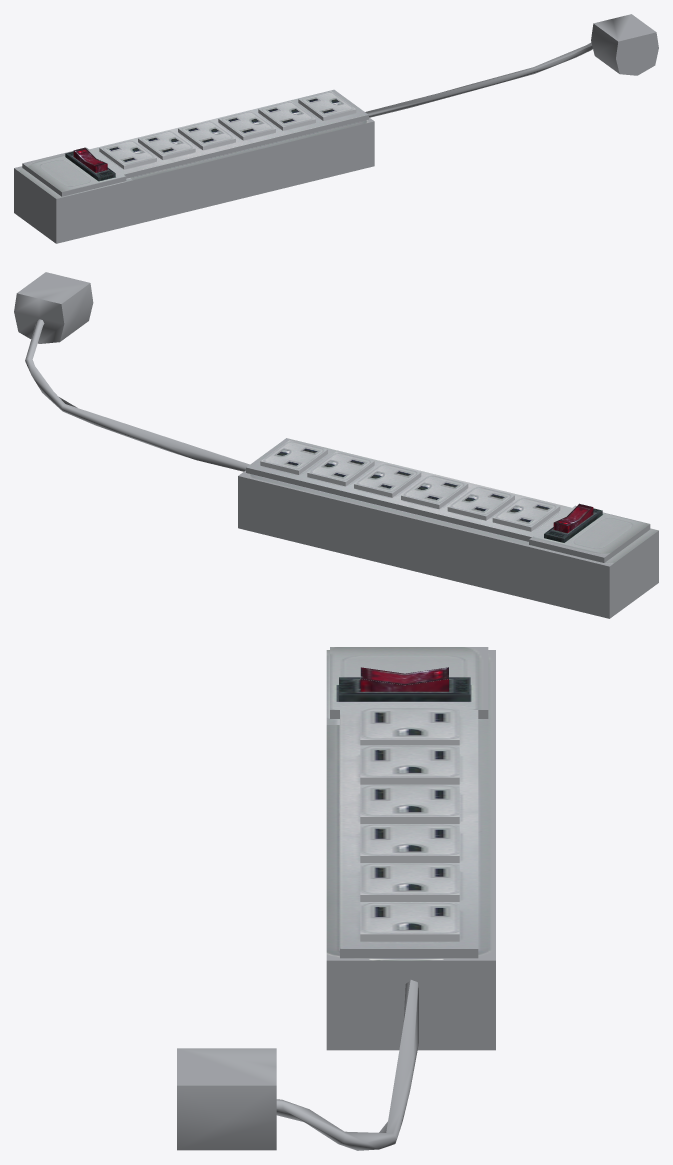
The model's file is powerstrip_r_lod1.fbx.
3 views of the same model, one above another, from view 1: azimuth 30°, elevation 25°; view 2: azimuth 150°, elevation 25°; view 3: azimuth 270°, elevation 25° (orthographic). The views are drawn at different scales.
Visible parts, largest first — view 1: body, sockets, Box02, cord, light, lightbase; view 2: body, sockets, Box02, cord, light, lightbase; view 3: body, sockets, Box02, cord, lightbase, light.
Boxes of the visible parts, x1=… form: body: x1=14, y1=89, x2=374, y2=243; sockets: x1=99, y1=91, x2=356, y2=169; Box02: x1=591, y1=14, x2=658, y2=75; cord: x1=365, y1=42, x2=592, y2=117; light: x1=73, y1=147, x2=107, y2=172; lightbase: x1=65, y1=151, x2=115, y2=180; body: x1=238, y1=438, x2=658, y2=618; sockets: x1=260, y1=440, x2=560, y2=531; Box02: x1=14, y1=272, x2=93, y2=343; cord: x1=25, y1=319, x2=249, y2=471; light: x1=553, y1=503, x2=593, y2=532; lightbase: x1=544, y1=508, x2=602, y2=542; body: x1=326, y1=647, x2=495, y2=1050; sockets: x1=360, y1=707, x2=459, y2=941; Box02: x1=177, y1=1048, x2=276, y2=1150; cord: x1=276, y1=980, x2=418, y2=1150; lightbase: x1=339, y1=677, x2=470, y2=701; light: x1=360, y1=667, x2=448, y2=691.
Bounding box in the file's own units: 2.31 × 0.3965 × 0.5634.
